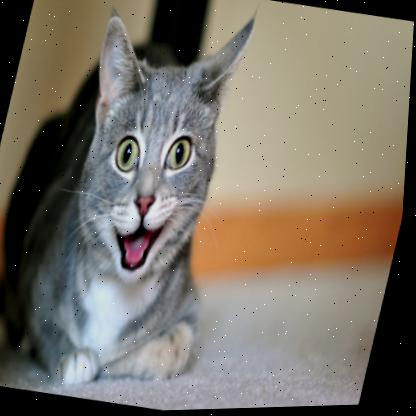cat: (0, 0, 258, 387)
